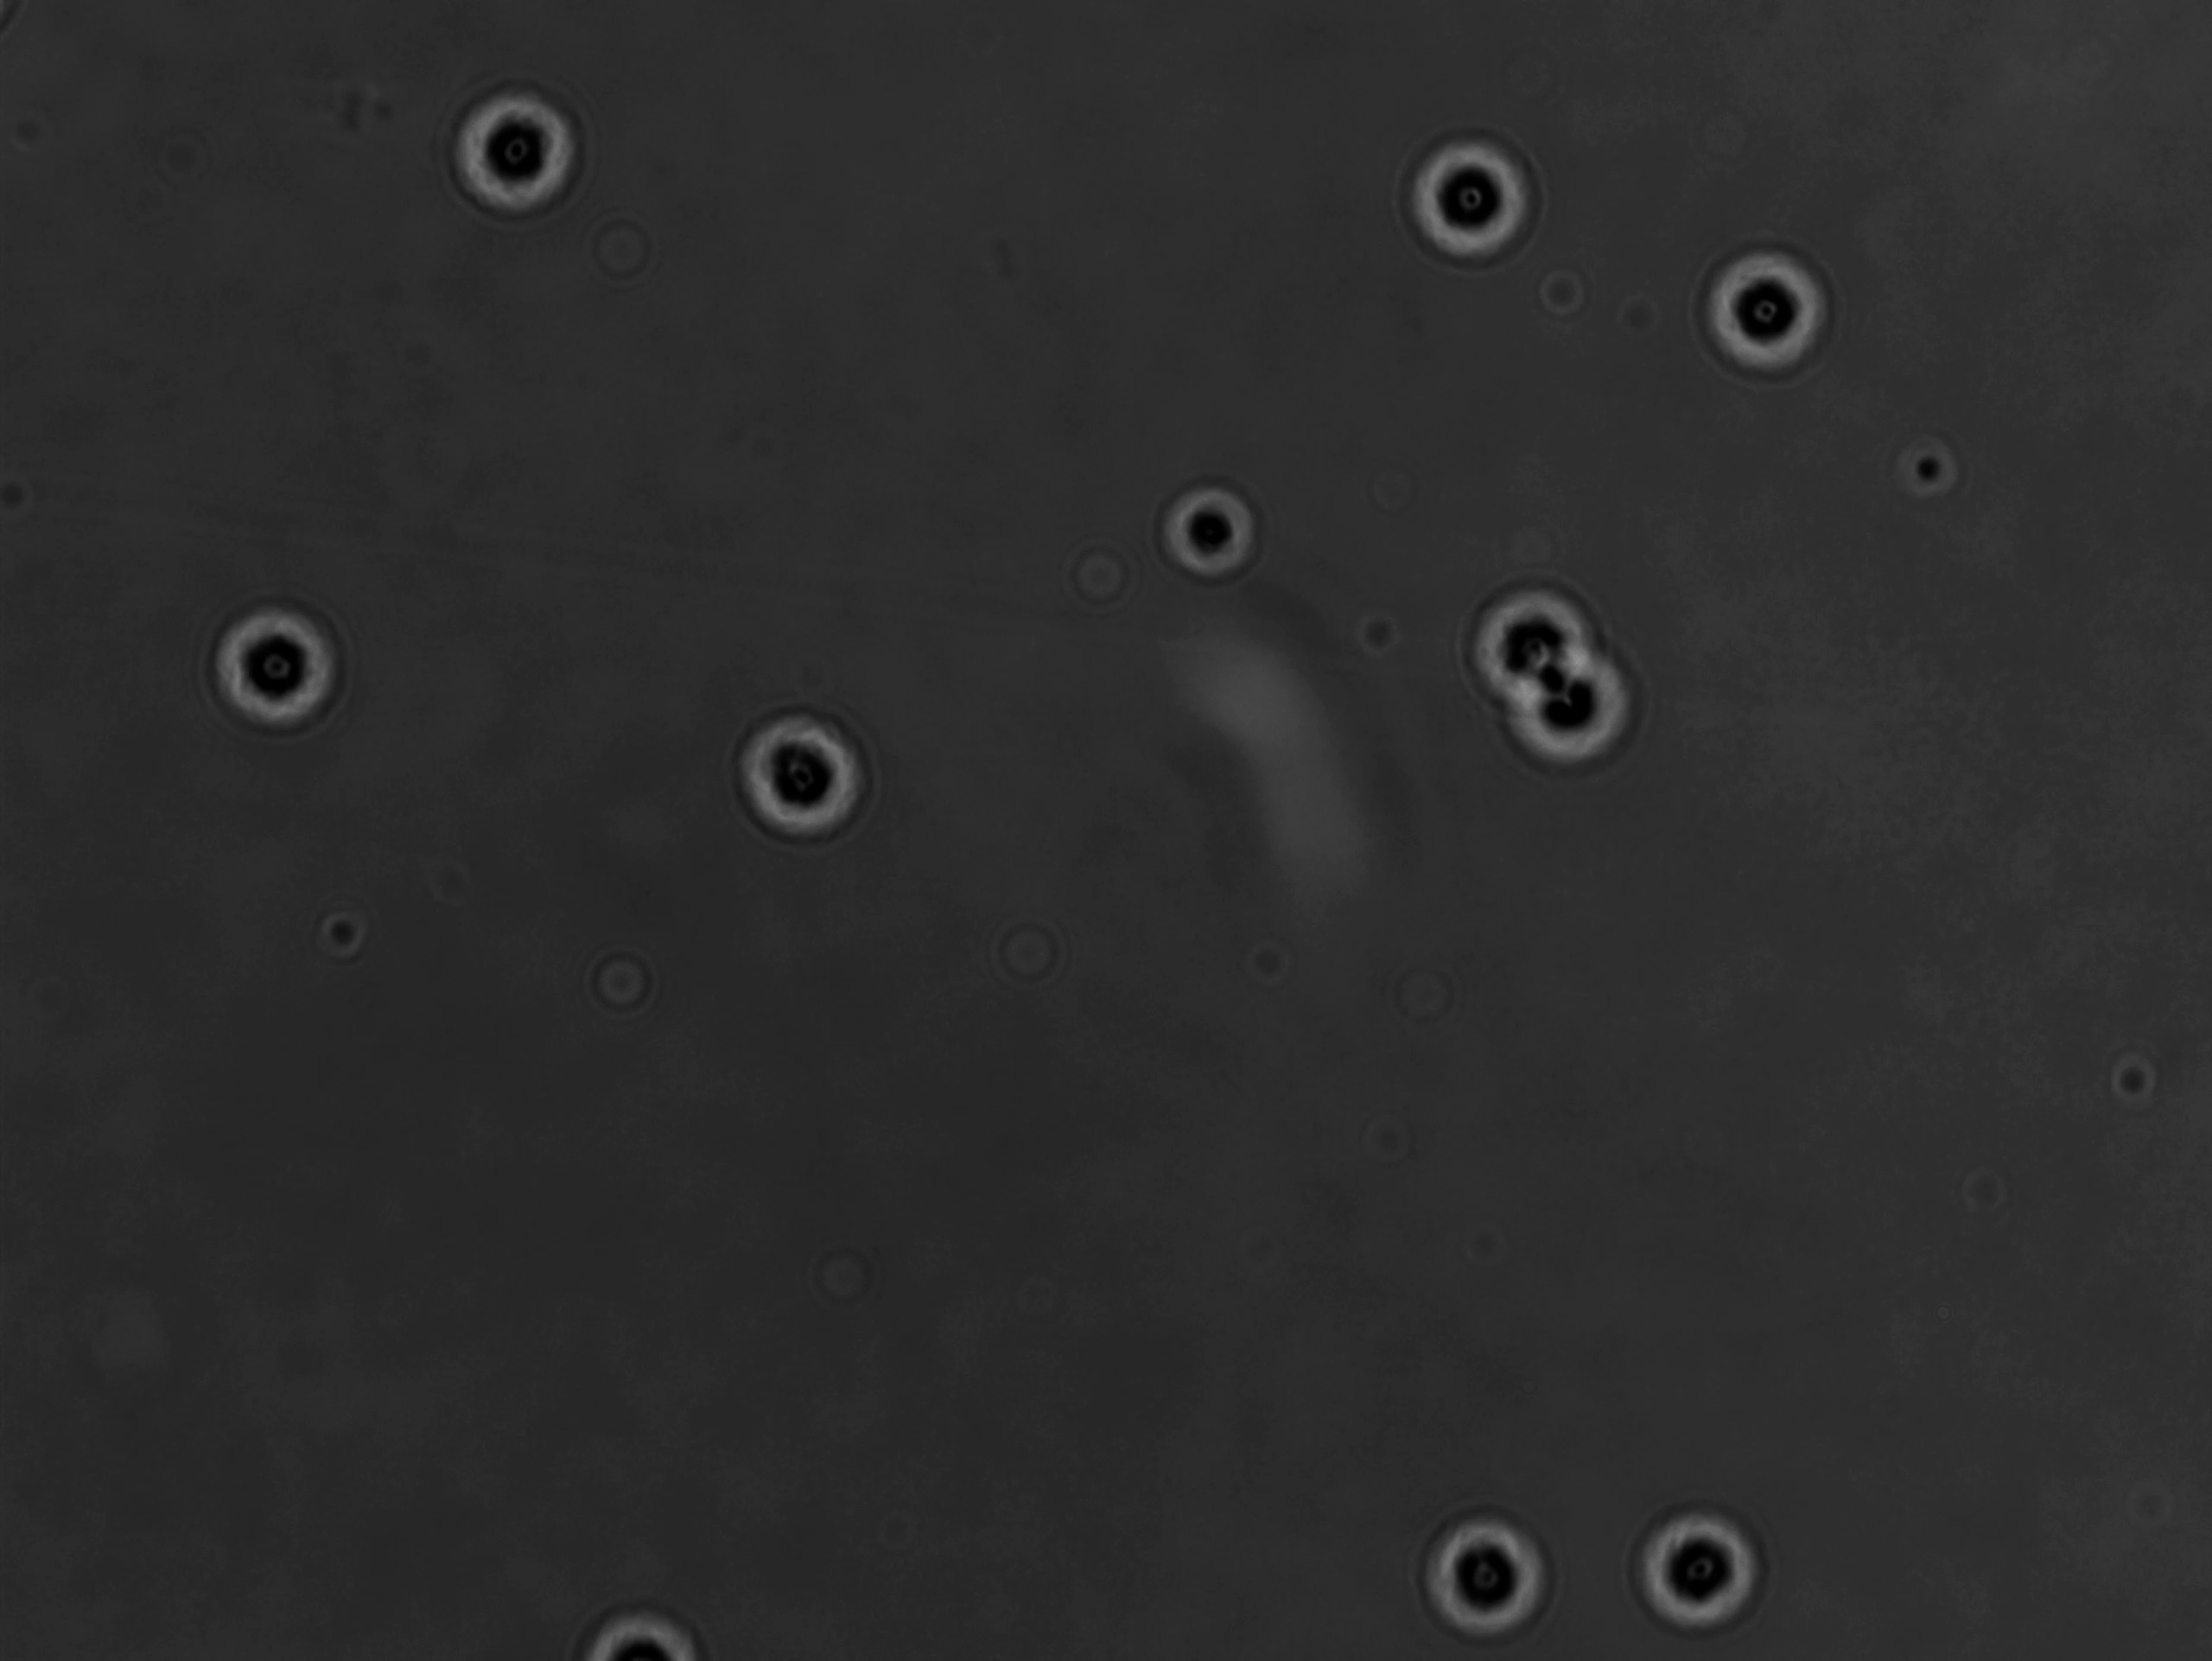depth:-20: (1502, 619, 1673, 785), (1451, 564, 1631, 717), (1685, 223, 1847, 393), (1404, 1490, 1575, 1649), (1387, 112, 1551, 274), (195, 574, 356, 740), (720, 696, 888, 855), (1621, 1494, 1788, 1652), (434, 73, 593, 229)
